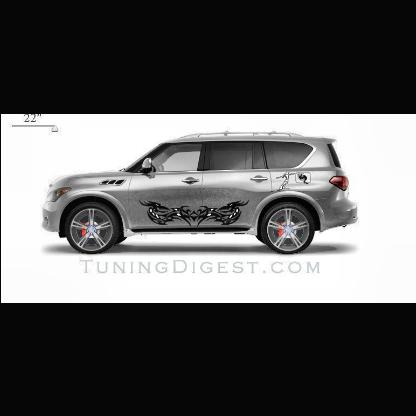Infiniti QX56 SUV 2011: (44, 131, 361, 256)
